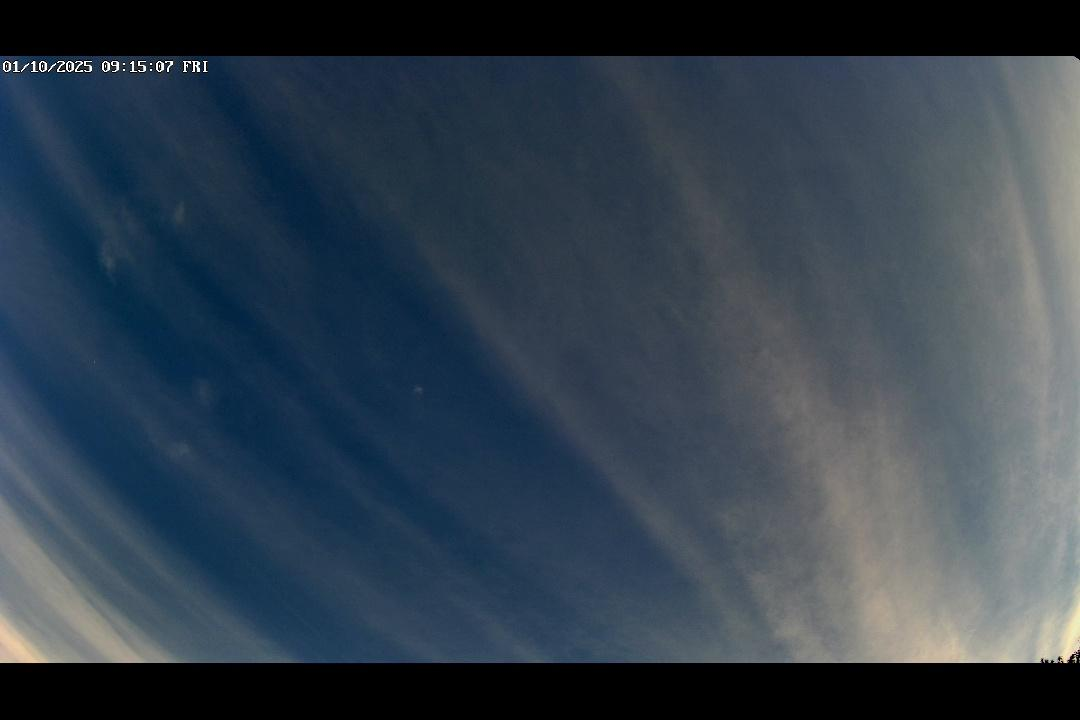Plane: (91, 357, 100, 365)
